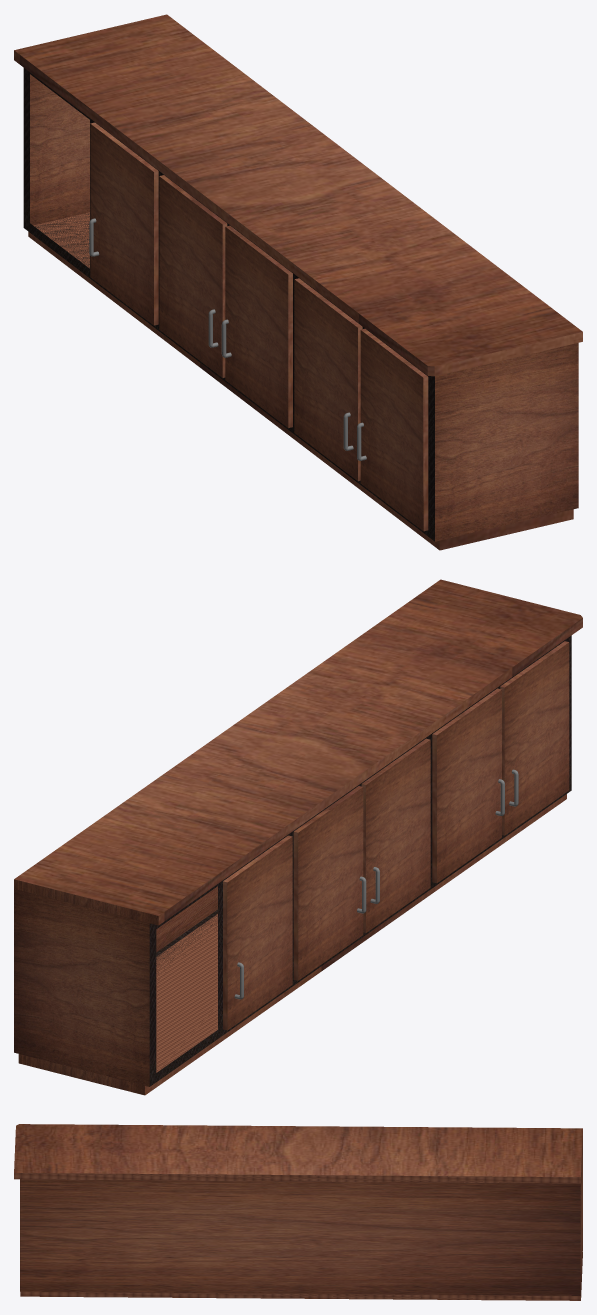
File: Gabinete.obj
The picture shows the model from 3 angles, top to bottom: view 1: azimuth 30°, elevation 25°; view 2: azimuth 150°, elevation 25°; view 3: azimuth 270°, elevation 25°; orthographic projection. The views are drawn at different scales.
Parts seen in each view (by area): view 1: Gabinete1:polySurface10; view 2: Gabinete1:polySurface10; view 3: Gabinete1:polySurface10.
Boxes of the visible parts, box(x1,y1,x2,y2) form: Gabinete1:polySurface10: box(14, 14, 582, 550); Gabinete1:polySurface10: box(14, 579, 582, 1095); Gabinete1:polySurface10: box(14, 1124, 582, 1300).
Bounding box in the file's own units: 1.16 × 1.26 × 5.2.
3 materials, 2 textured.
